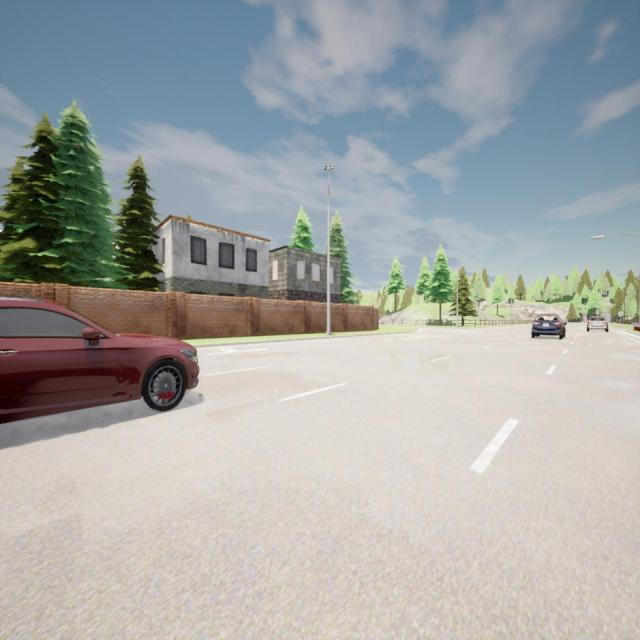Traffic_Signs: (618, 312, 622, 316)
Vehicle: (0, 297, 198, 421), (531, 313, 567, 339), (586, 316, 609, 332)
